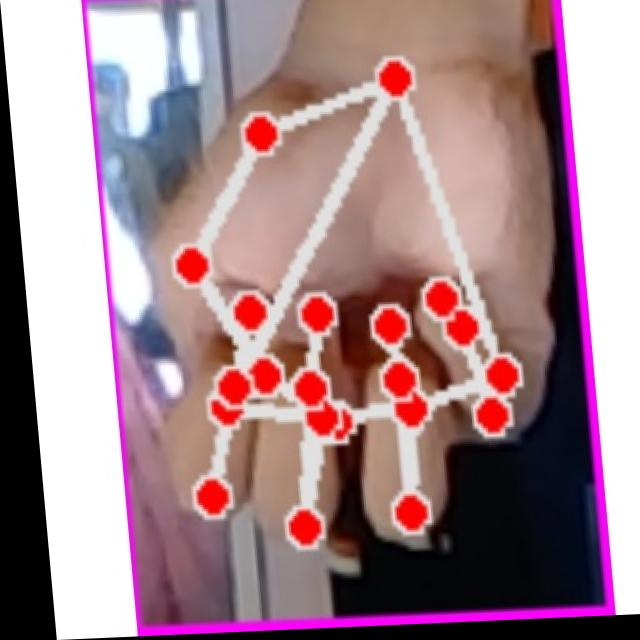M: (95, 37, 575, 575)
